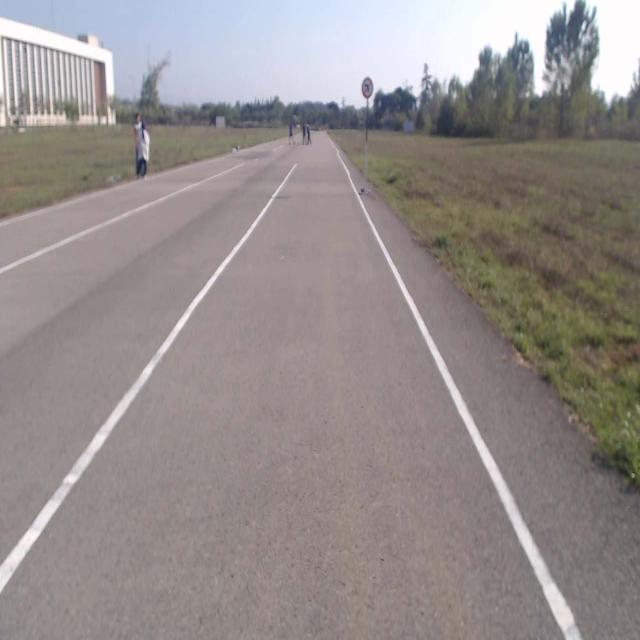soladonulmez: (362, 79, 372, 98)
